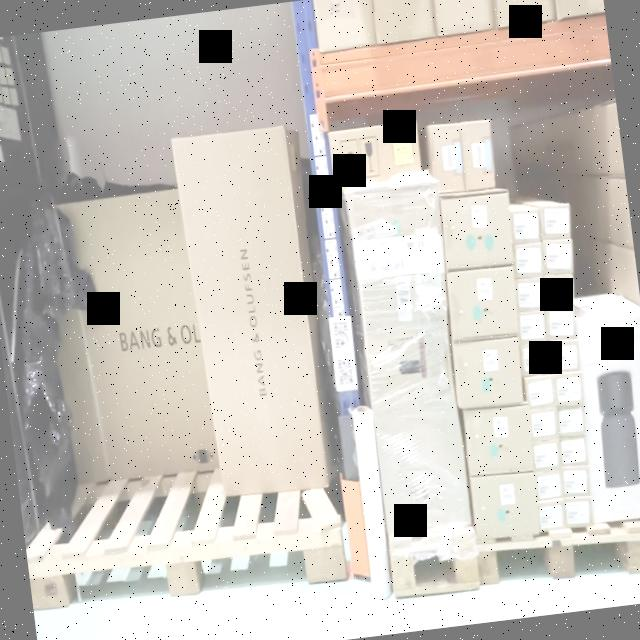box: (172, 128, 328, 496), (44, 190, 210, 477), (346, 184, 470, 532), (577, 311, 640, 517), (329, 122, 422, 188), (439, 193, 514, 269), (453, 338, 524, 408), (464, 404, 533, 476), (448, 267, 516, 339), (470, 474, 540, 538), (430, 122, 463, 192), (460, 122, 495, 187), (541, 240, 574, 274), (541, 205, 571, 239), (544, 308, 576, 339), (528, 406, 558, 438), (520, 343, 550, 374), (550, 339, 578, 372), (514, 244, 542, 277), (514, 278, 544, 308), (545, 276, 574, 306), (512, 209, 539, 241), (518, 310, 545, 342), (566, 496, 592, 528), (526, 375, 554, 404), (537, 502, 564, 532), (554, 376, 582, 404), (562, 466, 590, 494), (532, 441, 560, 469), (559, 406, 585, 436), (535, 472, 563, 498), (561, 440, 587, 464)
